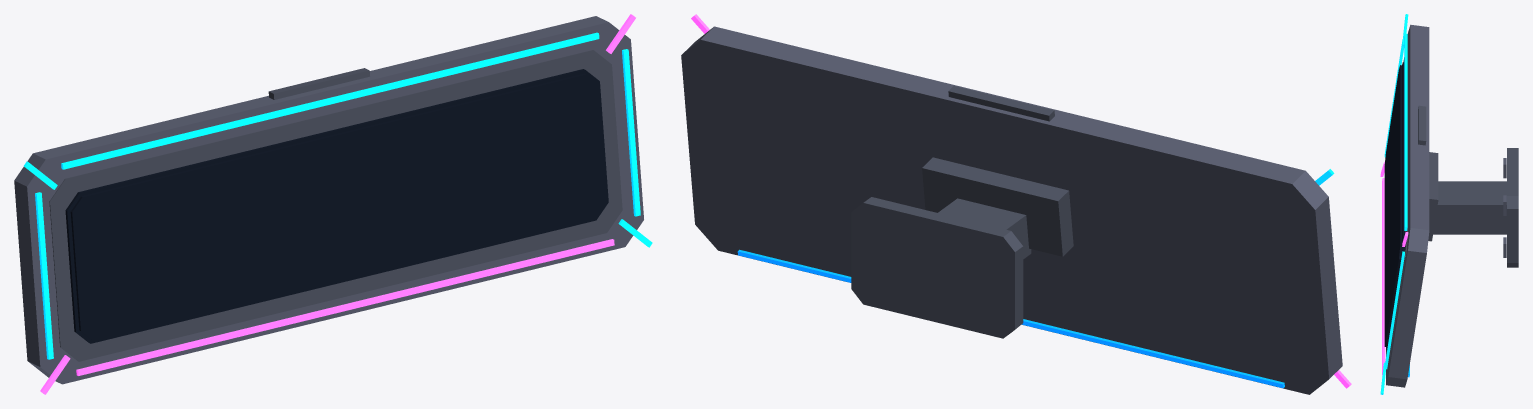
The model's file is display_screen_low_poly.glb.
3 renders of one model, left to right at view 1: azimuth 30°, elevation 25°; view 2: azimuth 150°, elevation 25°; view 3: azimuth 270°, elevation 25°, orthographic. The views are drawn at different scales.
Visible parts, largest first — view 1: slightly raised dark screen insert, single-piece low-poly chamfered console body, raised inner display bezel, inset black glass display surface, front magenta neon trim, rear blue neon trim, left blue side neon trim, right blue side neon trim, rear inset service port block; view 2: single-piece low-poly chamfered console body, chamfered floor mounting plate, angled top mounting bracket, thin blue underglow visible below screen lip, central rectangular pedestal support, rear inset service port block; view 3: single-piece low-poly chamfered console body, slightly raised dark screen insert, central rectangular pedestal support, chamfered floor mounting plate, rear blue neon trim, angled top mounting bracket, inset black glass display surface, front magenta neon trim, right blue side neon trim, rear inset service port block, raised inner display bezel, left blue side neon trim.
Part boxes in pixels (bbox=[...]): slightly raised dark screen insert: bbox=[70, 73, 606, 340]; single-piece low-poly chamfered console body: bbox=[14, 16, 643, 384]; raised inner display bezel: bbox=[49, 50, 622, 361]; inset black glass display surface: bbox=[65, 69, 608, 343]; front magenta neon trim: bbox=[76, 239, 614, 375]; rear blue neon trim: bbox=[61, 32, 599, 169]; left blue side neon trim: bbox=[35, 192, 53, 359]; right blue side neon trim: bbox=[622, 49, 640, 216]; rear inset service port block: bbox=[268, 68, 369, 99]; single-piece low-poly chamfered console body: bbox=[681, 26, 1342, 394]; chamfered floor mounting plate: bbox=[851, 197, 1023, 338]; angled top mounting bracket: bbox=[922, 157, 1073, 256]; thin blue underglow visible below screen lip: bbox=[737, 249, 1284, 388]; central rectangular pedestal support: bbox=[938, 198, 1031, 258]; rear inset service port block: bbox=[948, 86, 1054, 121]; single-piece low-poly chamfered console body: bbox=[1386, 24, 1429, 387]; slightly raised dark screen insert: bbox=[1384, 65, 1402, 347]; central rectangular pedestal support: bbox=[1433, 181, 1506, 234]; chamfered floor mounting plate: bbox=[1507, 148, 1518, 267]; rear blue neon trim: bbox=[1404, 33, 1407, 230]; angled top mounting bracket: bbox=[1428, 152, 1438, 241]; inset black glass display surface: bbox=[1386, 62, 1405, 350]; front magenta neon trim: bbox=[1382, 178, 1385, 375]; right blue side neon trim: bbox=[1384, 251, 1404, 369]; rear inset service port block: bbox=[1418, 105, 1426, 145]; raised inner display bezel: bbox=[1387, 60, 1407, 365]; left blue side neon trim: bbox=[1384, 40, 1404, 157].
Size of the model in its own units: 5.41 by 1.87 by 1.43.
